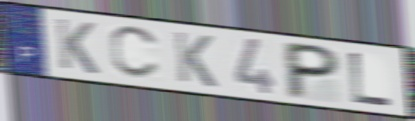4: (232, 35, 277, 98)
C: (107, 25, 162, 81)
K: (171, 29, 219, 90), (53, 16, 101, 77)
L: (347, 49, 395, 109)
P: (284, 40, 343, 101)
